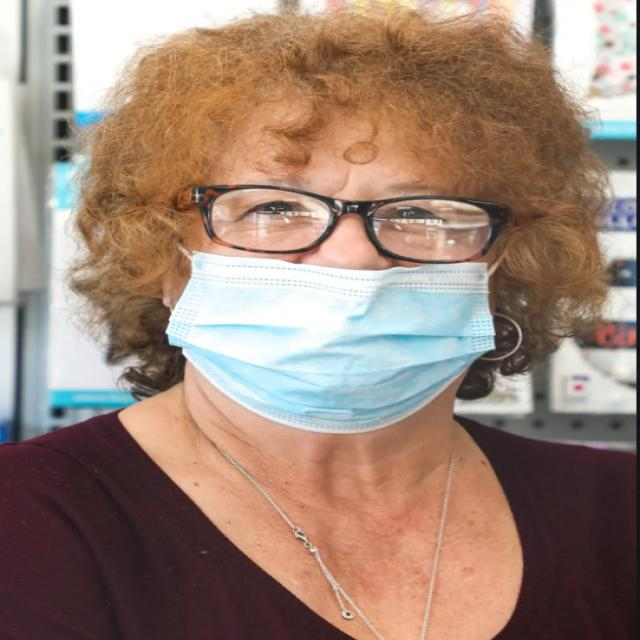mask: (161, 232, 524, 440)
